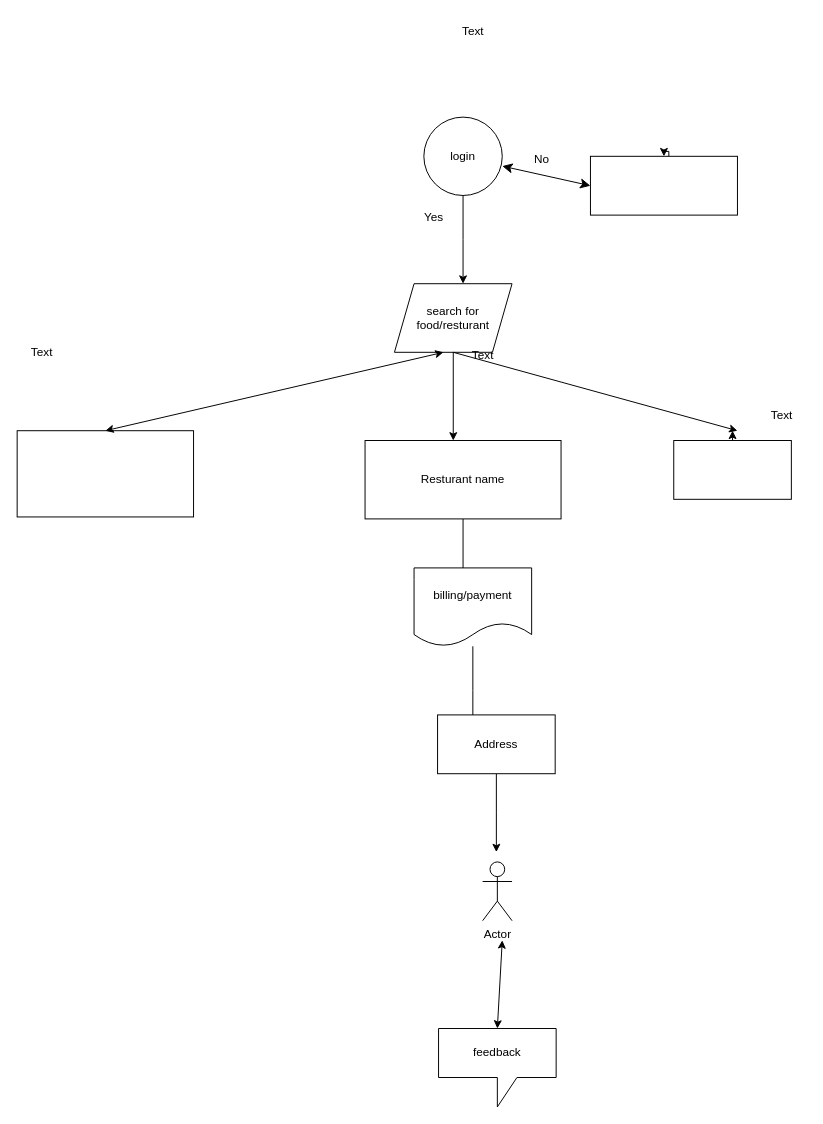
The diagram is 823 pixels wide and 1124 high, and some of its shapes have lost their labels. The shapes that lost their labels are listed below. From the top down, each one's centre as x and y in pixels, then its label:
At (663,185): "Register".
At (105,473): "stratersor biryanis".
At (732,469): "groceres".
